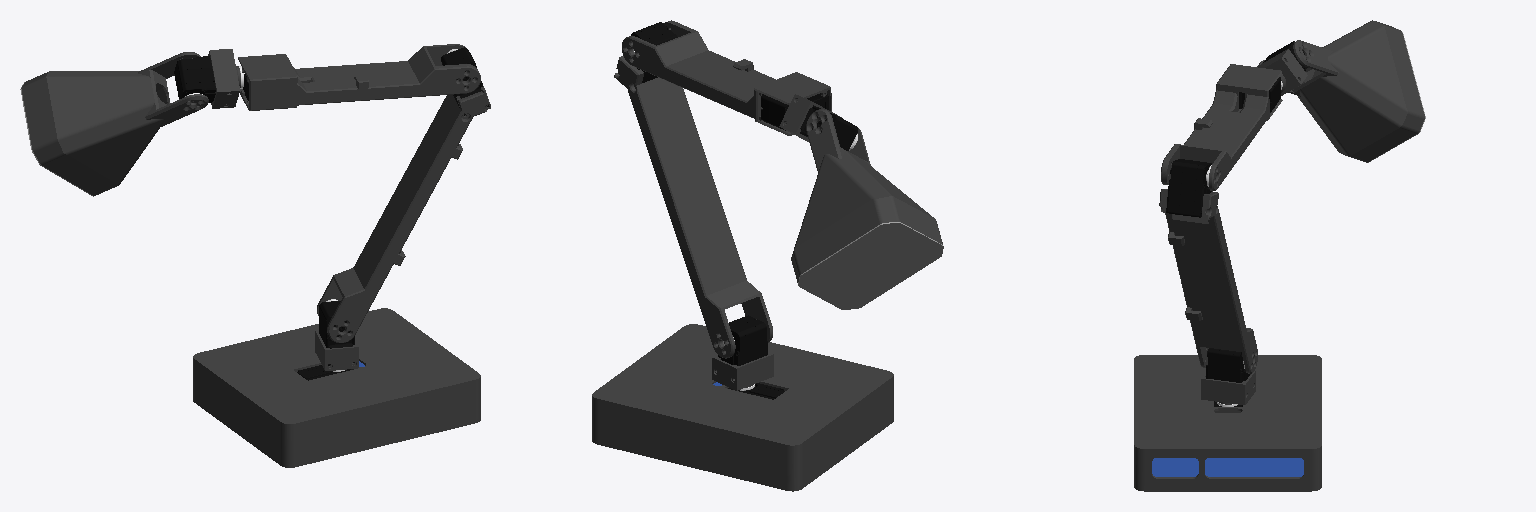
--- What the picture shows (computed from the rendered views, not written in the file) ---
3 views of the same robot in one strip: view 1: azimuth 30°, elevation 25°; view 2: azimuth 150°, elevation 25°; view 3: azimuth 270°, elevation 25° (orthographic).
Model simulation with 7 links and 6 joints (5 revolute, 1 fixed), rooted at lamparm__base_elbow, posed all joints at 0.
Visible links, largest first — view 1: scs215_v5, diffuser, lamparm__base_elbow, lamparm__elbow_wrist, lamparm__wrist_head_2, lamparm__wrist_head; view 2: scs215_v5, diffuser, lamparm__base_elbow, lamparm__elbow_wrist, lamparm__wrist_head, lamparm__wrist_head_2; view 3: scs215_v5, diffuser, lamparm__base_elbow, lamparm__elbow_wrist, lamparm__wrist_head, lamparm__wrist_head_2.
Link boxes in pixels (x1,y1,x2,y2): scs215_v5: [193, 308, 480, 467]; diffuser: [20, 52, 208, 196]; lamparm__base_elbow: [317, 47, 490, 342]; lamparm__elbow_wrist: [238, 44, 480, 110]; lamparm__wrist_head_2: [174, 49, 240, 108]; lamparm__wrist_head: [315, 299, 358, 370]; scs215_v5: [592, 324, 893, 491]; diffuser: [791, 109, 943, 309]; lamparm__base_elbow: [614, 22, 772, 358]; lamparm__elbow_wrist: [622, 20, 831, 135]; lamparm__wrist_head: [712, 315, 773, 390]; lamparm__wrist_head_2: [779, 94, 857, 150]; scs215_v5: [1134, 355, 1321, 491]; diffuser: [1258, 20, 1425, 162]; lamparm__base_elbow: [1159, 159, 1257, 373]; lamparm__elbow_wrist: [1161, 64, 1282, 190]; lamparm__wrist_head: [1201, 348, 1255, 404]; lamparm__wrist_head_2: [1257, 41, 1307, 95].
Size in the robot's own frame: 0.3651 by 0.2484 by 0.3295 metres.
38 mesh visuals loaded from 15 distinct referenced files (13 binary STL); not drawn: 10 (reference not matched to a file when rendering).

The robot description file, URDF, robot "simulation":
<?xml version="1.0" ?>
<!-- Generated using onshape-to-robot -->
<!-- Onshape document_id: 16c9706360b5ad34f9c8db49 -->
<robot name="simulation">
  <!-- Link lamparm__base_elbow -->
  <link name="lamparm__base_elbow">
    <inertial>
      <origin xyz="0.0729066 -0.0229022 0.217607" rpy="0 0 0"/>
      <mass value="0.234138"/>
      <inertia ixx="0.0010919" ixy="7.35843e-05" ixz="-0.000504692" iyy="0.00129476" iyz="0.000161616" izz="0.000320305"/>
    </inertial>
    <!-- Part lamparm__base_elbow -->
    <visual>
      <origin xyz="0.0683802 0.000449515 0.192601" rpy="-5.09262e-15 -0.486539 2.83295"/>
      <geometry>
        <mesh filename="package://assets/lamparm__base_elbow.stl"/>
      </geometry>
      <material name="lamparm__base_elbow_material">
        <color rgba="0.301961 0.301961 0.301961 1"/>
      </material>
    </visual>
    <collision>
      <origin xyz="0.0683802 0.000449515 0.192601" rpy="-5.09262e-15 -0.486539 2.83295"/>
      <geometry>
        <mesh filename="package://assets/lamparm__base_elbow.stl"/>
      </geometry>
    </collision>
    <!-- Part 金属舵盘_驱动__v2 -->
    <visual>
      <origin xyz="0.0947995 -0.0378086 0.310793" rpy="1.71355e-14 1.27194 -0.308645"/>
      <geometry>
        <mesh filename="package://assets/金属舵盘_驱动__v2.stl"/>
      </geometry>
      <material name="金属舵盘_驱动__v2_material">
        <color rgba="0.960784 0.960784 0.964706 1"/>
      </material>
    </visual>
    <collision>
      <origin xyz="0.0947995 -0.0378086 0.310793" rpy="1.71355e-14 1.27194 -0.308645"/>
      <geometry>
        <mesh filename="package://assets/金属舵盘_驱动__v2.stl"/>
      </geometry>
    </collision>
    <!-- Part 金属舵盘_从动__v2 -->
    <visual>
      <origin xyz="0.090674 -0.0701329 0.29168" rpy="6.73844e-14 -1.27194 2.83295"/>
      <geometry>
        <mesh filename="package://assets/金属舵盘_从动__v2.stl"/>
      </geometry>
      <material name="金属舵盘_从动__v2_material">
        <color rgba="0.960784 0.960784 0.964706 1"/>
      </material>
    </visual>
    <collision>
      <origin xyz="0.090674 -0.0701329 0.29168" rpy="6.73844e-14 -1.27194 2.83295"/>
      <geometry>
        <mesh filename="package://assets/金属舵盘_从动__v2.stl"/>
      </geometry>
    </collision>
    <!-- Part pcb_chazuo_92 -->
    <visual>
      <origin xyz="0.110043 -0.0244059 0.276867" rpy="1.71355e-14 1.27194 -0.308645"/>
      <geometry>
        <mesh filename="package://assets/pcb_chazuo_92.stl"/>
      </geometry>
      <material name="pcb_chazuo_92_material">
        <color rgba="0.0980392 0.0980392 0.0980392 1"/>
      </material>
    </visual>
    <collision>
      <origin xyz="0.110043 -0.0244059 0.276867" rpy="1.71355e-14 1.27194 -0.308645"/>
      <geometry>
        <mesh filename="package://assets/pcb_chazuo_92.stl"/>
      </geometry>
    </collision>
    <!-- Part xg_ziji_16 -->
    <visual>
      <origin xyz="0.110043 -0.0244059 0.276867" rpy="1.71355e-14 1.27194 -0.308645"/>
      <geometry>
        <mesh filename="package://assets/xg_ziji_16.stl"/>
      </geometry>
      <material name="xg_ziji_16_material">
        <color rgba="0.0980392 0.0980392 0.0980392 1"/>
      </material>
    </visual>
    <collision>
      <origin xyz="0.110043 -0.0244059 0.276867" rpy="1.71355e-14 1.27194 -0.308645"/>
      <geometry>
        <mesh filename="package://assets/xg_ziji_16.stl"/>
      </geometry>
    </collision>
    <!-- Part ge_27 -->
    <visual>
      <origin xyz="0.101068 -0.0278417 0.301237" rpy="1.5708 1.27194 -0.308645"/>
      <geometry>
        <mesh filename="package://assets/ge_27.stl"/>
      </geometry>
      <material name="ge_27_material">
        <color rgba="0.0980392 0.0980392 0.0980392 1"/>
      </material>
    </visual>
    <collision>
      <origin xyz="0.101068 -0.0278417 0.301237" rpy="1.5708 1.27194 -0.308645"/>
      <geometry>
        <mesh filename="package://assets/ge_27.stl"/>
      </geometry>
    </collision>
    <!-- Part sg_ziji_15 -->
    <visual>
      <origin xyz="0.110043 -0.0244059 0.276867" rpy="1.71355e-14 1.27194 -0.308645"/>
      <geometry>
        <mesh filename="package://assets/sg_ziji_15.stl"/>
      </geometry>
      <material name="sg_ziji_15_material">
        <color rgba="0.0980392 0.0980392 0.0980392 1"/>
      </material>
    </visual>
    <collision>
      <origin xyz="0.110043 -0.0244059 0.276867" rpy="1.71355e-14 1.27194 -0.308645"/>
      <geometry>
        <mesh filename="package://assets/sg_ziji_15.stl"/>
      </geometry>
    </collision>
    <!-- Part zk_122 -->
    <visual>
      <origin xyz="0.110043 -0.0244059 0.276867" rpy="1.71355e-14 1.27194 -0.308645"/>
      <geometry>
        <mesh filename="package://assets/zk_122.stl"/>
      </geometry>
      <material name="zk_122_material">
        <color rgba="0.0980392 0.0980392 0.0980392 1"/>
      </material>
    </visual>
    <collision>
      <origin xyz="0.110043 -0.0244059 0.276867" rpy="1.71355e-14 1.27194 -0.308645"/>
      <geometry>
        <mesh filename="package://assets/zk_122.stl"/>
      </geometry>
    </collision>
    <!-- Part motor_1723_3 -->
    <visual>
      <origin xyz="0.101964 -0.0458133 0.276499" rpy="-3.14159 0.298859 2.83295"/>
      <geometry>
        <mesh filename="package://assets/motor_1723_3.stl"/>
      </geometry>
      <material name="motor_1723_3_material">
        <color rgba="0.0980392 0.0980392 0.0980392 1"/>
      </material>
    </visual>
    <collision>
      <origin xyz="0.101964 -0.0458133 0.276499" rpy="-3.14159 0.298859 2.83295"/>
      <geometry>
        <mesh filename="package://assets/motor_1723_3.stl"/>
      </geometry>
    </collision>
  </link>
  <!-- Link lamparm__wrist_head -->
  <link name="lamparm__wrist_head">
    <inertial>
      <origin xyz="0.0193636 0.000541554 -0.0196637" rpy="0 0 0"/>
      <mass value="0.0953804"/>
      <inertia ixx="1.16713e-05" ixy="-3.19269e-07" ixz="9.361e-07" iyy="2.19256e-05" iyz="6.98105e-08" izz="1.7794e-05"/>
    </inertial>
    <!-- Part lamparm__wrist_head -->
    <visual>
      <origin xyz="0.04111 7.30741e-16 -0.0192" rpy="-1.5708 5.39003e-15 1.5708"/>
      <geometry>
        <mesh filename="package://assets/lamparm__wrist_head.stl"/>
      </geometry>
      <material name="lamparm__wrist_head_material">
        <color rgba="0.301961 0.301961 0.301961 1"/>
      </material>
    </visual>
    <collision>
      <origin xyz="0.04111 7.30741e-16 -0.0192" rpy="-1.5708 5.39003e-15 1.5708"/>
      <geometry>
        <mesh filename="package://assets/lamparm__wrist_head.stl"/>
      </geometry>
    </collision>
    <!-- Part 金属舵盘_驱动__v2_2 -->
    <visual>
      <origin xyz="-0.01 1.67203e-18 -0.027" rpy="1.5708 3.77385e-32 5.58874e-32"/>
      <geometry>
        <mesh filename="package://assets/金属舵盘_驱动__v2.stl"/>
      </geometry>
      <material name="金属舵盘_驱动__v2_2_material">
        <color rgba="0.960784 0.960784 0.964706 1"/>
      </material>
    </visual>
    <collision>
      <origin xyz="-0.01 1.67203e-18 -0.027" rpy="1.5708 3.77385e-32 5.58874e-32"/>
      <geometry>
        <mesh filename="package://assets/金属舵盘_驱动__v2.stl"/>
      </geometry>
    </collision>
    <!-- Part 金属舵盘_从动__v2_2 -->
    <visual>
      <origin xyz="0.01 -7.90727e-16 -0.05905" rpy="-1.5708 7.98655e-15 -3.14159"/>
      <geometry>
        <mesh filename="package://assets/金属舵盘_从动__v2.stl"/>
      </geometry>
      <material name="金属舵盘_从动__v2_2_material">
        <color rgba="0.960784 0.960784 0.964706 1"/>
      </material>
    </visual>
    <collision>
      <origin xyz="0.01 -7.90727e-16 -0.05905" rpy="-1.5708 7.98655e-15 -3.14159"/>
      <geometry>
        <mesh filename="package://assets/金属舵盘_从动__v2.stl"/>
      </geometry>
    </collision>
    <!-- Part pcb_chazuo_92_2 -->
    <visual>
      <origin xyz="0.0255 6.87024e-16 -0.0096" rpy="1.5708 3.77385e-32 5.58874e-32"/>
      <geometry>
        <mesh filename="package://assets/pcb_chazuo_92.stl"/>
      </geometry>
      <material name="pcb_chazuo_92_2_material">
        <color rgba="0.0980392 0.0980392 0.0980392 1"/>
      </material>
    </visual>
    <collision>
      <origin xyz="0.0255 6.87024e-16 -0.0096" rpy="1.5708 3.77385e-32 5.58874e-32"/>
      <geometry>
        <mesh filename="package://assets/pcb_chazuo_92.stl"/>
      </geometry>
    </collision>
    <!-- Part xg_ziji_16_2 -->
    <visual>
      <origin xyz="0.0255 6.87024e-16 -0.0096" rpy="1.5708 3.77385e-32 5.58874e-32"/>
      <geometry>
        <mesh filename="package://assets/xg_ziji_16.stl"/>
      </geometry>
      <material name="xg_ziji_16_2_material">
        <color rgba="0.0980392 0.0980392 0.0980392 1"/>
      </material>
    </visual>
    <collision>
      <origin xyz="0.0255 6.87024e-16 -0.0096" rpy="1.5708 3.77385e-32 5.58874e-32"/>
      <geometry>
        <mesh filename="package://assets/xg_ziji_16.stl"/>
      </geometry>
    </collision>
    <!-- Part ge_27_2 -->
    <visual>
      <origin xyz="-1.80411e-16 3.21139e-16 -0.0156" rpy="3.14159 -4.06471e-16 5.01029e-15"/>
      <geometry>
        <mesh filename="package://assets/ge_27.stl"/>
      </geometry>
      <material name="ge_27_2_material">
        <color rgba="0.0980392 0.0980392 0.0980392 1"/>
      </material>
    </visual>
    <collision>
      <origin xyz="-1.80411e-16 3.21139e-16 -0.0156" rpy="3.14159 -4.06471e-16 5.01029e-15"/>
      <geometry>
        <mesh filename="package://assets/ge_27.stl"/>
      </geometry>
    </collision>
    <!-- Part sg_ziji_15_2 -->
    <visual>
      <origin xyz="0.0255 6.87024e-16 -0.0096" rpy="1.5708 3.77385e-32 5.58874e-32"/>
      <geometry>
        <mesh filename="package://assets/sg_ziji_15.stl"/>
      </geometry>
      <material name="sg_ziji_15_2_material">
        <color rgba="0.0980392 0.0980392 0.0980392 1"/>
      </material>
    </visual>
    <collision>
      <origin xyz="0.0255 6.87024e-16 -0.0096" rpy="1.5708 3.77385e-32 5.58874e-32"/>
      <geometry>
        <mesh filename="package://assets/sg_ziji_15.stl"/>
      </geometry>
    </collision>
    <!-- Part zk_122_2 -->
    <visual>
      <origin xyz="0.0255 6.87024e-16 -0.0096" rpy="1.5708 3.77385e-32 5.58874e-32"/>
      <geometry>
        <mesh filename="package://assets/zk_122.stl"/>
      </geometry>
      <material name="zk_122_2_material">
        <color rgba="0.0980392 0.0980392 0.0980392 1"/>
      </material>
    </visual>
    <collision>
      <origin xyz="0.0255 6.87024e-16 -0.0096" rpy="1.5708 3.77385e-32 5.58874e-32"/>
      <geometry>
        <mesh filename="package://assets/zk_122.stl"/>
      </geometry>
    </collision>
    <!-- Part motor_1723_3_2 -->
    <visual>
      <origin xyz="0.0255 0.00125 -0.03245" rpy="1.5708 -1.20176e-15 1.5708"/>
      <geometry>
        <mesh filename="package://assets/motor_1723_3.stl"/>
      </geometry>
      <material name="motor_1723_3_2_material">
        <color rgba="0.0980392 0.0980392 0.0980392 1"/>
      </material>
    </visual>
    <collision>
      <origin xyz="0.0255 0.00125 -0.03245" rpy="1.5708 -1.20176e-15 1.5708"/>
      <geometry>
        <mesh filename="package://assets/motor_1723_3.stl"/>
      </geometry>
    </collision>
  </link>
  <!-- Link scs215_v5 -->
  <link name="scs215_v5">
    <inertial>
      <origin xyz="0.00584437 0.00206639 -0.0244202" rpy="0 0 0"/>
      <mass value="0.41735"/>
      <inertia ixx="0.00100304" ixy="-8.49257e-05" ixz="-8.64397e-06" iyy="0.00122902" iyz="-3.34823e-06" izz="0.00205034"/>
    </inertial>
    <!-- Part lamp_base -->
    <visual>
      <origin xyz="0.0119093 0.0037971 -0.0378" rpy="3.29997e-16 -5.41191e-15 1.87944"/>
      <geometry>
        <mesh filename="package://assets/lamp_base.stl"/>
      </geometry>
      <material name="lamp_base_material">
        <color rgba="0.301961 0.301961 0.301961 1"/>
      </material>
    </visual>
    <collision>
      <origin xyz="0.0119093 0.0037971 -0.0378" rpy="3.29997e-16 -5.41191e-15 1.87944"/>
      <geometry>
        <mesh filename="package://assets/lamp_base.stl"/>
      </geometry>
    </collision>
    <!-- Part lamp_base_cover -->
    <visual>
      <origin xyz="0.0119093 0.0037971 -0.0378" rpy="3.29997e-16 -5.41191e-15 1.87944"/>
      <geometry>
        <mesh filename="package://assets/lamp_base_cover.stl"/>
      </geometry>
      <material name="lamp_base_cover_material">
        <color rgba="0.231373 0.380392 0.705882 1"/>
      </material>
    </visual>
    <collision>
      <origin xyz="0.0119093 0.0037971 -0.0378" rpy="3.29997e-16 -5.41191e-15 1.87944"/>
      <geometry>
        <mesh filename="package://assets/lamp_base_cover.stl"/>
      </geometry>
    </collision>
    <!-- Part 金属舵盘_驱动__v2_3 -->
    <visual>
      <origin xyz="-0.00952746 -0.00303768 -0.027" rpy="1.5708 3.66067e-15 0.308645"/>
      <geometry>
        <mesh filename="package://assets/金属舵盘_驱动__v2.stl"/>
      </geometry>
      <material name="金属舵盘_驱动__v2_3_material">
        <color rgba="0.960784 0.960784 0.964706 1"/>
      </material>
    </visual>
    <collision>
      <origin xyz="-0.00952746 -0.00303768 -0.027" rpy="1.5708 3.66067e-15 0.308645"/>
      <geometry>
        <mesh filename="package://assets/金属舵盘_驱动__v2.stl"/>
      </geometry>
    </collision>
    <!-- Part 金属舵盘_从动__v2_3 -->
    <visual>
      <origin xyz="0.00952746 0.00303768 -0.05905" rpy="-1.5708 3.50027e-15 -2.83295"/>
      <geometry>
        <mesh filename="package://assets/金属舵盘_从动__v2.stl"/>
      </geometry>
      <material name="金属舵盘_从动__v2_3_material">
        <color rgba="0.960784 0.960784 0.964706 1"/>
      </material>
    </visual>
    <collision>
      <origin xyz="0.00952746 0.00303768 -0.05905" rpy="-1.5708 3.50027e-15 -2.83295"/>
      <geometry>
        <mesh filename="package://assets/金属舵盘_从动__v2.stl"/>
      </geometry>
    </collision>
    <!-- Part pcb_chazuo_92_3 -->
    <visual>
      <origin xyz="0.024295 0.00774608 -0.0096" rpy="1.5708 3.66067e-15 0.308645"/>
      <geometry>
        <mesh filename="package://assets/pcb_chazuo_92.stl"/>
      </geometry>
      <material name="pcb_chazuo_92_3_material">
        <color rgba="0.0980392 0.0980392 0.0980392 1"/>
      </material>
    </visual>
    <collision>
      <origin xyz="0.024295 0.00774608 -0.0096" rpy="1.5708 3.66067e-15 0.308645"/>
      <geometry>
        <mesh filename="package://assets/pcb_chazuo_92.stl"/>
      </geometry>
    </collision>
    <!-- Part xg_ziji_16_3 -->
    <visual>
      <origin xyz="0.024295 0.00774608 -0.0096" rpy="1.5708 3.66067e-15 0.308645"/>
      <geometry>
        <mesh filename="package://assets/xg_ziji_16.stl"/>
      </geometry>
      <material name="xg_ziji_16_3_material">
        <color rgba="0.0980392 0.0980392 0.0980392 1"/>
      </material>
    </visual>
    <collision>
      <origin xyz="0.024295 0.00774608 -0.0096" rpy="1.5708 3.66067e-15 0.308645"/>
      <geometry>
        <mesh filename="package://assets/xg_ziji_16.stl"/>
      </geometry>
    </collision>
    <!-- Part ge_27_3 -->
    <visual>
      <origin xyz="-1.19702e-17 3.78772e-17 -0.0156" rpy="-3.14159 3.66067e-15 0.308645"/>
      <geometry>
        <mesh filename="package://assets/ge_27.stl"/>
      </geometry>
      <material name="ge_27_3_material">
        <color rgba="0.0980392 0.0980392 0.0980392 1"/>
      </material>
    </visual>
    <collision>
      <origin xyz="-1.19702e-17 3.78772e-17 -0.0156" rpy="-3.14159 3.66067e-15 0.308645"/>
      <geometry>
        <mesh filename="package://assets/ge_27.stl"/>
      </geometry>
    </collision>
    <!-- Part sg_ziji_15_3 -->
    <visual>
      <origin xyz="0.024295 0.00774608 -0.0096" rpy="1.5708 3.66067e-15 0.308645"/>
      <geometry>
        <mesh filename="package://assets/sg_ziji_15.stl"/>
      </geometry>
      <material name="sg_ziji_15_3_material">
        <color rgba="0.0980392 0.0980392 0.0980392 1"/>
      </material>
    </visual>
    <collision>
      <origin xyz="0.024295 0.00774608 -0.0096" rpy="1.5708 3.66067e-15 0.308645"/>
      <geometry>
        <mesh filename="package://assets/sg_ziji_15.stl"/>
      </geometry>
    </collision>
    <!-- Part zk_122_3 -->
    <visual>
      <origin xyz="0.024295 0.00774608 -0.0096" rpy="1.5708 3.66067e-15 0.308645"/>
      <geometry>
        <mesh filename="package://assets/zk_122.stl"/>
      </geometry>
      <material name="zk_122_3_material">
        <color rgba="0.0980392 0.0980392 0.0980392 1"/>
      </material>
    </visual>
    <collision>
      <origin xyz="0.024295 0.00774608 -0.0096" rpy="1.5708 3.66067e-15 0.308645"/>
      <geometry>
        <mesh filename="package://assets/zk_122.stl"/>
      </geometry>
    </collision>
    <!-- Part motor_1723_3_3 -->
    <visual>
      <origin xyz="0.0239153 0.00893702 -0.03245" rpy="1.5708 -5.41191e-15 1.87944"/>
      <geometry>
        <mesh filename="package://assets/motor_1723_3.stl"/>
      </geometry>
      <material name="motor_1723_3_3_material">
        <color rgba="0.0980392 0.0980392 0.0980392 1"/>
      </material>
    </visual>
    <collision>
      <origin xyz="0.0239153 0.00893702 -0.03245" rpy="1.5708 -5.41191e-15 1.87944"/>
      <geometry>
        <mesh filename="package://assets/motor_1723_3.stl"/>
      </geometry>
    </collision>
  </link>
  <!-- Frame imu_site (dummy link + fixed joint) -->
  <link name="imu_site">
    <origin xyz="0 0 0" rpy="0 -0 0"/>
    <inertial>
      <origin xyz="0 0 0" rpy="0 0 0"/>
      <mass value="1e-9"/>
      <inertia ixx="0" ixy="0" ixz="0" iyy="0" iyz="0" izz="0"/>
    </inertial>
  </link>
  <joint name="imu_site_frame" type="fixed">
    <origin xyz="-3.4944e-17 4.02192e-17 -0.0378" rpy="3.14159 -5.41191e-15 1.87944"/>
    <parent link="scs215_v5"/>
    <child link="imu_site"/>
    <axis xyz="0 0 0"/>
  </joint>
  <!-- Joint from lamparm__wrist_head to scs215_v5 -->
  <joint name="1" type="revolute">
    <origin xyz="0.04111 7.30741e-16 -0.0192" rpy="-1.5708 5.39003e-15 1.5708"/>
    <parent link="lamparm__wrist_head"/>
    <child link="scs215_v5"/>
    <axis xyz="0 0 1"/>
    <limit effort="10" velocity="10" lower="-5.02103" upper="1.26215"/>
  </joint>
  <!-- Joint from lamparm__base_elbow to lamparm__wrist_head -->
  <joint name="2" type="revolute">
    <origin xyz="0.00583234 0.0182927 0.08291" rpy="-1.26215 1.5708 0"/>
    <parent link="lamparm__base_elbow"/>
    <child link="lamparm__wrist_head"/>
    <axis xyz="0 0 1"/>
    <limit effort="10" velocity="10" lower="-1.08426" upper="2.05734"/>
  </joint>
  <!-- Link lamparm__elbow_wrist -->
  <link name="lamparm__elbow_wrist">
    <inertial>
      <origin xyz="-0.00212937 0.119295 0.0220282" rpy="0 0 0"/>
      <mass value="0.206448"/>
      <inertia ixx="0.000632713" ixy="-1.84707e-05" ixz="-1.72868e-06" iyy="4.80236e-05" iyz="-1.49987e-05" izz="0.000602863"/>
    </inertial>
    <!-- Part lamparm__elbow_wrist -->
    <visual>
      <origin xyz="-0.00618 0.08736 0.03925" rpy="-1.5708 -2.48282e-19 8.58705e-19"/>
      <geometry>
        <mesh filename="package://assets/lamparm__elbow_wrist.stl"/>
      </geometry>
      <material name="lamparm__elbow_wrist_material">
        <color rgba="0.301961 0.301961 0.301961 1"/>
      </material>
    </visual>
    <collision>
      <origin xyz="-0.00618 0.08736 0.03925" rpy="-1.5708 -2.48282e-19 8.58705e-19"/>
      <geometry>
        <mesh filename="package://assets/lamparm__elbow_wrist.stl"/>
      </geometry>
    </collision>
    <!-- Part 金属舵盘_驱动__v2_4 -->
    <visual>
      <origin xyz="2.60902e-15 0.158185 -0.003875" rpy="9.61063e-17 -1.5708 0"/>
      <geometry>
        <mesh filename="package://assets/金属舵盘_驱动__v2.stl"/>
      </geometry>
      <material name="金属舵盘_驱动__v2_4_material">
        <color rgba="0.960784 0.960784 0.964706 1"/>
      </material>
    </visual>
    <collision>
      <origin xyz="2.60902e-15 0.158185 -0.003875" rpy="9.61063e-17 -1.5708 0"/>
      <geometry>
        <mesh filename="package://assets/金属舵盘_驱动__v2.stl"/>
      </geometry>
    </collision>
    <!-- Part 金属舵盘_从动__v2_4 -->
    <visual>
      <origin xyz="3.4972e-15 0.126135 0.016125" rpy="3.14159 1.5708 0"/>
      <geometry>
        <mesh filename="package://assets/金属舵盘_从动__v2.stl"/>
      </geometry>
      <material name="金属舵盘_从动__v2_4_material">
        <color rgba="0.960784 0.960784 0.964706 1"/>
      </material>
    </visual>
    <collision>
      <origin xyz="3.4972e-15 0.126135 0.016125" rpy="3.14159 1.5708 0"/>
      <geometry>
        <mesh filename="package://assets/金属舵盘_从动__v2.stl"/>
      </geometry>
    </collision>
    <!-- Part pcb_chazuo_92_4 -->
    <visual>
      <origin xyz="5.55112e-17 0.175585 0.031625" rpy="9.61063e-17 -1.5708 0"/>
      <geometry>
        <mesh filename="package://assets/pcb_chazuo_92.stl"/>
      </geometry>
      <material name="pcb_chazuo_92_4_material">
        <color rgba="0.0980392 0.0980392 0.0980392 1"/>
      </material>
    </visual>
    <collision>
      <origin xyz="5.55112e-17 0.175585 0.031625" rpy="9.61063e-17 -1.5708 0"/>
      <geometry>
        <mesh filename="package://assets/pcb_chazuo_92.stl"/>
      </geometry>
    </collision>
    <!-- Part xg_ziji_16_4 -->
    <visual>
      <origin xyz="5.55112e-17 0.175585 0.031625" rpy="9.61063e-17 -1.5708 0"/>
      <geometry>
        <mesh filename="package://assets/xg_ziji_16.stl"/>
      </geometry>
      <material name="xg_ziji_16_4_material">
        <color rgba="0.0980392 0.0980392 0.0980392 1"/>
      </material>
    </visual>
    <collision>
      <origin xyz="5.55112e-17 0.175585 0.031625" rpy="9.61063e-17 -1.5708 0"/>
      <geometry>
        <mesh filename="package://assets/xg_ziji_16.stl"/>
      </geometry>
    </collision>
    <!-- Part ge_27_4 -->
    <visual>
      <origin xyz="3.88578e-16 0.169585 0.006125" rpy="1.5708 -1.5708 0"/>
      <geometry>
        <mesh filename="package://assets/ge_27.stl"/>
      </geometry>
      <material name="ge_27_4_material">
        <color rgba="0.0980392 0.0980392 0.0980392 1"/>
      </material>
    </visual>
    <collision>
      <origin xyz="3.88578e-16 0.169585 0.006125" rpy="1.5708 -1.5708 0"/>
      <geometry>
        <mesh filename="package://assets/ge_27.stl"/>
      </geometry>
    </collision>
    <!-- Part sg_ziji_15_4 -->
    <visual>
      <origin xyz="5.55112e-17 0.175585 0.031625" rpy="9.61063e-17 -1.5708 0"/>
      <geometry>
        <mesh filename="package://assets/sg_ziji_15.stl"/>
      </geometry>
      <material name="sg_ziji_15_4_material">
        <color rgba="0.0980392 0.0980392 0.0980392 1"/>
      </material>
    </visual>
    <collision>
      <origin xyz="5.55112e-17 0.175585 0.031625" rpy="9.61063e-17 -1.5708 0"/>
      <geometry>
        <mesh filename="package://assets/sg_ziji_15.stl"/>
      </geometry>
    </collision>
    <!-- Part zk_122_4 -->
    <visual>
      <origin xyz="5.55112e-17 0.175585 0.031625" rpy="9.61063e-17 -1.5708 0"/>
      <geometry>
        <mesh filename="package://assets/zk_122.stl"/>
      </geometry>
      <material name="zk_122_4_material">
        <color rgba="0.0980392 0.0980392 0.0980392 1"/>
      </material>
    </visual>
    <collision>
      <origin xyz="5.55112e-17 0.175585 0.031625" rpy="9.61063e-17 -1.5708 0"/>
      <geometry>
        <mesh filename="package://assets/zk_122.stl"/>
      </geometry>
    </collision>
    <!-- Part motor_1723_3_4 -->
    <visual>
      <origin xyz="0.00125 0.152735 0.031625" rpy="-1.8658e-14 -2.5384e-14 2.80191e-14"/>
      <geometry>
        <mesh filename="package://assets/motor_1723_3.stl"/>
      </geometry>
      <material name="motor_1723_3_4_material">
        <color rgba="0.0980392 0.0980392 0.0980392 1"/>
      </material>
    </visual>
    <collision>
      <origin xyz="0.00125 0.152735 0.031625" rpy="-1.8658e-14 -2.5384e-14 2.80191e-14"/>
      <geometry>
        <mesh filename="package://assets/motor_1723_3.stl"/>
      </geometry>
    </collision>
  </link>
  <!-- Link lamparm__wrist_head_2 -->
  <link name="lamparm__wrist_head_2">
    <inertial>
      <origin xyz="0.000541554 -0.000463734 -0.0217464" rpy="0 0 0"/>
      <mass value="0.0953804"/>
      <inertia ixx="2.19256e-05" ixy="6.98105e-08" ixz="-3.19269e-07" iyy="1.7794e-05" iyz="9.361e-07" izz="1.16713e-05"/>
    </inertial>
    <!-- Part lamparm__wrist_head_2 -->
    <visual>
      <origin xyz="0 -2.77556e-17 -1.38778e-17" rpy="-3.14159 1.81119e-17 -6.86291e-17"/>
      <geometry>
        <mesh filename="package://assets/lamparm__wrist_head.stl"/>
      </geometry>
      <material name="lamparm__wrist_head_2_material">
        <color rgba="0.301961 0.301961 0.301961 1"/>
      </material>
    </visual>
    <collision>
      <origin xyz="0 -2.77556e-17 -1.38778e-17" rpy="-3.14159 1.81119e-17 -6.86291e-17"/>
      <geometry>
        <mesh filename="package://assets/lamparm__wrist_head.stl"/>
      </geometry>
    </collision>
    <!-- Part 金属舵盘_驱动__v2_5 -->
    <visual>
      <origin xyz="1.60982e-15 -0.0078 -0.05111" rpy="-1.25444e-16 -1.5708 0"/>
      <geometry>
        <mesh filename="package://assets/金属舵盘_驱动__v2.stl"/>
      </geometry>
      <material name="金属舵盘_驱动__v2_5_material">
        <color rgba="0.960784 0.960784 0.964706 1"/>
      </material>
    </visual>
    <collision>
      <origin xyz="1.60982e-15 -0.0078 -0.05111" rpy="-1.25444e-16 -1.5708 0"/>
      <geometry>
        <mesh filename="package://assets/金属舵盘_驱动__v2.stl"/>
      </geometry>
    </collision>
    <!-- Part 金属舵盘_从动__v2_5 -->
    <visual>
      <origin xyz="3.88578e-16 -0.03985 -0.03111" rpy="3.14159 1.5708 0"/>
      <geometry>
        <mesh filename="package://assets/金属舵盘_从动__v2.stl"/>
      </geometry>
      <material name="金属舵盘_从动__v2_5_material">
        <color rgba="0.960784 0.960784 0.964706 1"/>
      </material>
    </visual>
    <collision>
      <origin xyz="3.88578e-16 -0.03985 -0.03111" rpy="3.14159 1.5708 0"/>
      <geometry>
        <mesh filename="package://assets/金属舵盘_从动__v2.stl"/>
      </geometry>
    </collision>
    <!-- Part pcb_chazuo_92_5 -->
    <visual>
      <origin xyz="1.94289e-16 0.0096 -0.01561" rpy="-1.25444e-16 -1.5708 0"/>
      <geometry>
        <mesh filename="package://assets/pcb_chazuo_92.stl"/>
      </geometry>
      <material name="pcb_chazuo_92_5_material">
        <color rgba="0.0980392 0.0980392 0.0980392 1"/>
      </material>
    </visual>
    <collision>
      <origin xyz="1.94289e-16 0.0096 -0.01561" rpy="-1.25444e-16 -1.5708 0"/>
      <geometry>
        <mesh filename="package://assets/pcb_chazuo_92.stl"/>
      </geometry>
    </collision>
    <!-- Part xg_ziji_16_5 -->
    <visual>
      <origin xyz="1.94289e-16 0.0096 -0.01561" rpy="-1.25444e-16 -1.5708 0"/>
      <geometry>
        <mesh filename="package://assets/xg_ziji_16.stl"/>
      </geometry>
      <material name="xg_ziji_16_5_material">
        <color rgba="0.0980392 0.0980392 0.0980392 1"/>
      </material>
    </visual>
    <collision>
      <origin xyz="1.94289e-16 0.0096 -0.01561" rpy="-1.25444e-16 -1.5708 0"/>
      <geometry>
        <mesh filename="package://assets/xg_ziji_16.stl"/>
      </geometry>
    </collision>
    <!-- Part ge_27_5 -->
    <visual>
      <origin xyz="8.32667e-17 0.0036 -0.04111" rpy="1.5708 -1.5708 0"/>
      <geometry>
        <mesh filename="package://assets/ge_27.stl"/>
      </geometry>
      <material name="ge_27_5_material">
        <color rgba="0.0980392 0.0980392 0.0980392 1"/>
      </material>
    </visual>
    <collision>
      <origin xyz="8.32667e-17 0.0036 -0.04111" rpy="1.5708 -1.5708 0"/>
      <geometry>
        <mesh filename="package://assets/ge_27.stl"/>
      </geometry>
    </collision>
    <!-- Part sg_ziji_15_5 -->
    <visual>
      <origin xyz="1.94289e-16 0.0096 -0.01561" rpy="-1.25444e-16 -1.5708 0"/>
      <geometry>
        <mesh filename="package://assets/sg_ziji_15.stl"/>
      </geometry>
      <material name="sg_ziji_15_5_material">
        <color rgba="0.0980392 0.0980392 0.0980392 1"/>
      </material>
    </visual>
    <collision>
      <origin xyz="1.94289e-16 0.0096 -0.01561" rpy="-1.25444e-16 -1.5708 0"/>
      <geometry>
        <mesh filename="package://assets/sg_ziji_15.stl"/>
      </geometry>
    </collision>
    <!-- Part zk_122_5 -->
    <visual>
      <origin xyz="1.94289e-16 0.0096 -0.01561" rpy="-1.25444e-16 -1.5708 0"/>
      <geometry>
        <mesh filename="package://assets/zk_122.stl"/>
      </geometry>
      <material name="zk_122_5_material">
        <color rgba="0.0980392 0.0980392 0.0980392 1"/>
      </material>
    </visual>
    <collision>
      <origin xyz="1.94289e-16 0.0096 -0.01561" rpy="-1.25444e-16 -1.5708 0"/>
      <geometry>
        <mesh filename="package://assets/zk_122.stl"/>
      </geometry>
    </collision>
    <!-- Part motor_1723_3_5 -->
    <visual>
      <origin xyz="0.00125 -0.01325 -0.01561" rpy="3.14838e-14 4.11248e-14 5.1974e-14"/>
      <geometry>
        <mesh filename="package://assets/motor_1723_3.stl"/>
      </geometry>
      <material name="motor_1723_3_5_material">
        <color rgba="0.0980392 0.0980392 0.0980392 1"/>
      </material>
    </visual>
    <collision>
      <origin xyz="0.00125 -0.01325 -0.01561" rpy="3.14838e-14 4.11248e-14 5.1974e-14"/>
      <geometry>
        <mesh filename="package://assets/motor_1723_3.stl"/>
      </geometry>
    </collision>
  </link>
  <!-- Link diffuser -->
  <link name="diffuser">
    <inertial>
      <origin xyz="-0.0641891 0.0560099 0.0186249" rpy="0 0 0"/>
      <mass value="0.0933113"/>
      <inertia ixx="0.000164418" ixy="2.06383e-05" ixz="7.21792e-11" iyy="0.000170062" iyz="4.01082e-10" izz="0.000206169"/>
    </inertial>
    <!-- Part diffuser -->
    <visual>
      <origin xyz="-0.0018837 0.00164368 0.03925" rpy="1.5708 -4.00094e-16 0.853337"/>
      <geometry>
        <mesh filename="package://assets/diffuser.stl"/>
      </geometry>
      <material name="diffuser_material">
        <color rgba="0.647059 0.647059 0.647059 1"/>
      </material>
    </visual>
    <collision>
      <origin xyz="-0.0018837 0.00164368 0.03925" rpy="1.5708 -4.00094e-16 0.853337"/>
      <geometry>
        <mesh filename="package://assets/diffuser.stl"/>
      </geometry>
    </collision>
    <!-- Part lamphead -->
    <visual>
      <origin xyz="-0.0018837 0.00164368 0.03925" rpy="1.5708 -4.00094e-16 0.853337"/>
      <geometry>
        <mesh filename="package://assets/lamphead.stl"/>
      </geometry>
      <material name="lamphead_material">
        <color rgba="0.301961 0.301961 0.301961 1"/>
      </material>
    </visual>
    <collision>
      <origin xyz="-0.0018837 0.00164368 0.03925" rpy="1.5708 -4.00094e-16 0.853337"/>
      <geometry>
        <mesh filename="package://assets/lamphead.stl"/>
      </geometry>
    </collision>
  </link>
  <!-- Joint from lamparm__wrist_head_2 to diffuser -->
  <joint name="5" type="revolute">
    <origin xyz="1.58207e-15 0.0192 -0.04111" rpy="1.5708 -1.5708 0"/>
    <parent link="lamparm__wrist_head_2"/>
    <child link="diffuser"/>
    <axis xyz="0 0 1"/>
    <limit effort="10" velocity="10" lower="-0.853337" upper="2.28826"/>
  </joint>
  <!-- Joint from lamparm__elbow_wrist to lamparm__wrist_head_2 -->
  <joint name="4" type="revolute">
    <origin xyz="2.55351e-15 0.185185 0.006125" rpy="1.5708 -0.644947 2.92255e-15"/>
    <parent link="lamparm__elbow_wrist"/>
    <child link="lamparm__wrist_head_2"/>
    <axis xyz="0 0 1"/>
    <limit effort="10" velocity="10" lower="-3.78654" upper="2.49665"/>
  </joint>
  <!-- Joint from lamparm__base_elbow to lamparm__elbow_wrist -->
  <joint name="3" type="revolute">
    <origin xyz="0.105806 -0.0129789 0.301237" rpy="1.5708 -1.54809 -0.308645"/>
    <parent link="lamparm__base_elbow"/>
    <child link="lamparm__elbow_wrist"/>
    <axis xyz="0 0 1"/>
    <limit effort="10" velocity="10" lower="-2.82002" upper="0.321569"/>
  </joint>
  <!-- Additional sensors.xml -->
  <sensor>
    <accelerometer name="accel_sensor" site="imu_site"/>
    <gyro name="gyro_sensor" site="imu_site"/>
  </sensor>
  <!-- Additional joints_properties.xml -->
  <default>
    <default class="sts3215">
      <geom contype="0" conaffinity="0"/>
      <joint damping="0.60" frictionloss="0.052" armature="0.028"/>
      <position kp="17.8" kv="0.0" forcerange="-3.35 3.35"/>
    </default>
    <default class="backlash">
      <!-- +/- 0.5° of backlash -->
      <joint damping="0.01" frictionloss="0" armature="0.01" limited="true" range="-0.008726646259971648 0.008726646259971648"/>
    </default>
  </default>
</robot>
